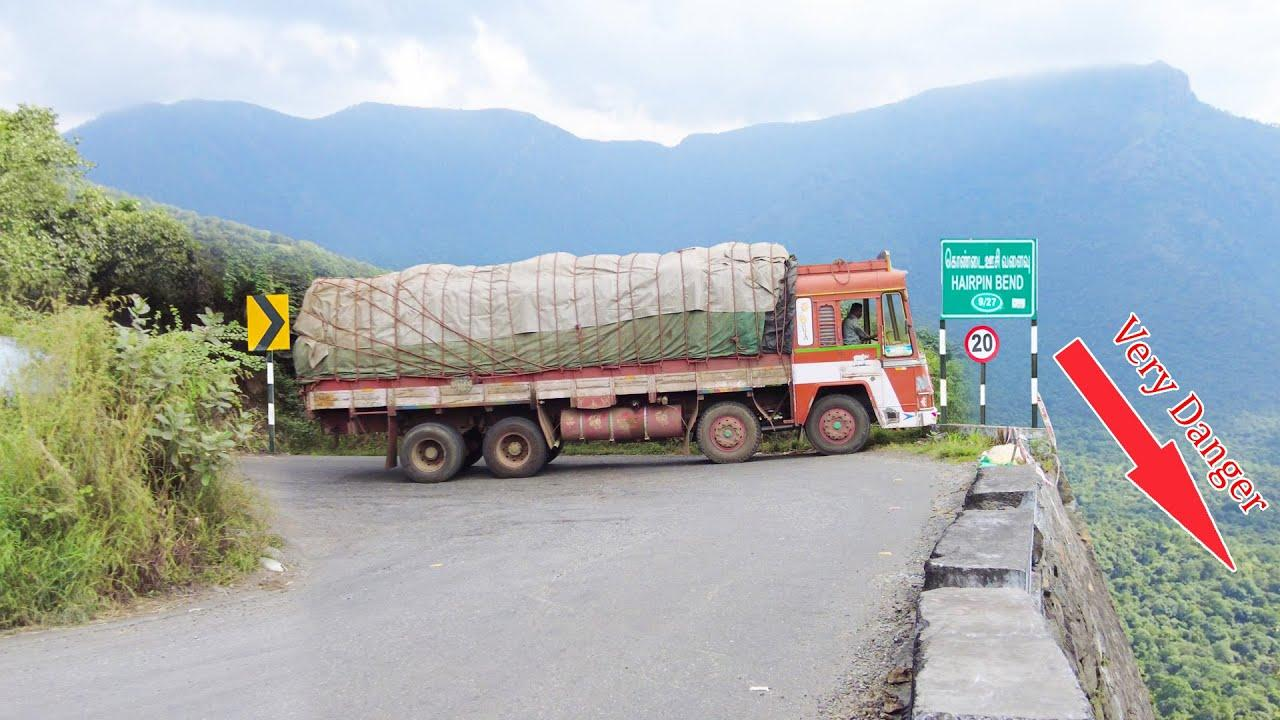truck: (290, 240, 937, 484)
